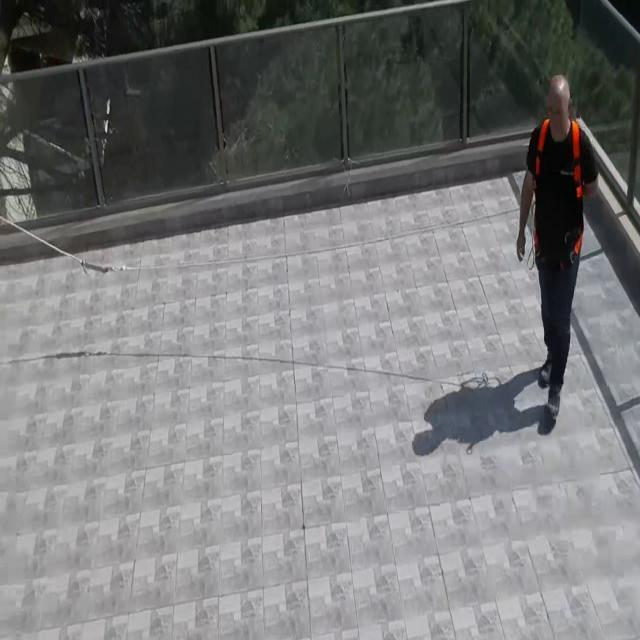safety belt: (491, 107, 595, 265)
